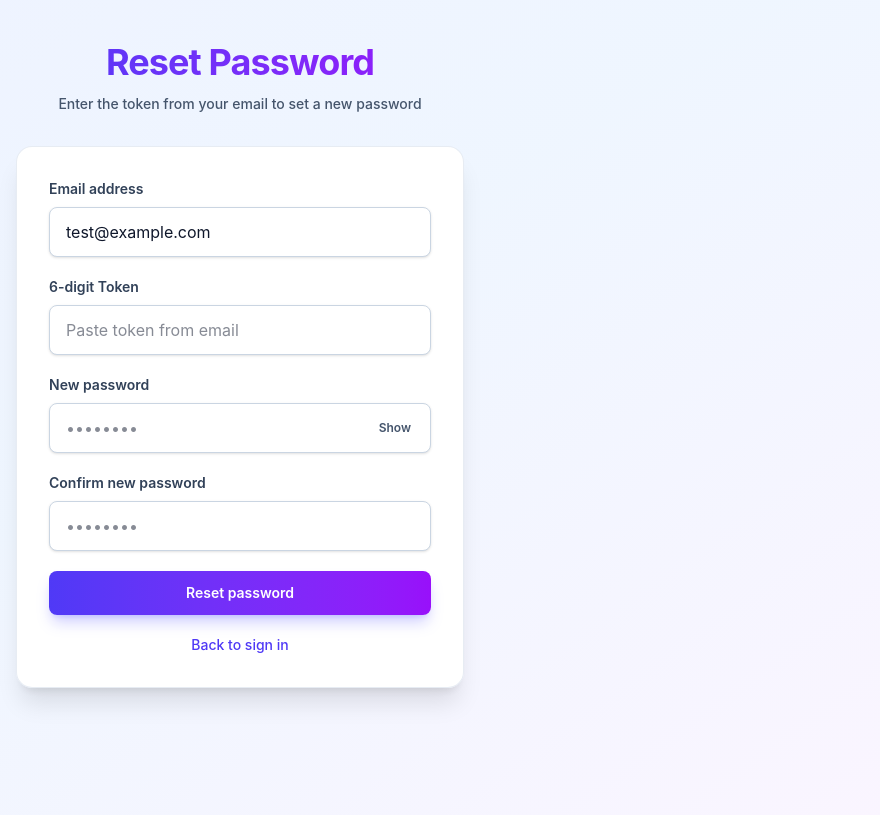
Test: ResetPasswordPage › shows error if resetPassword API fails
Type "111111" into the field labelled "6-digit Token" at (240, 330), box [49, 305, 431, 355]
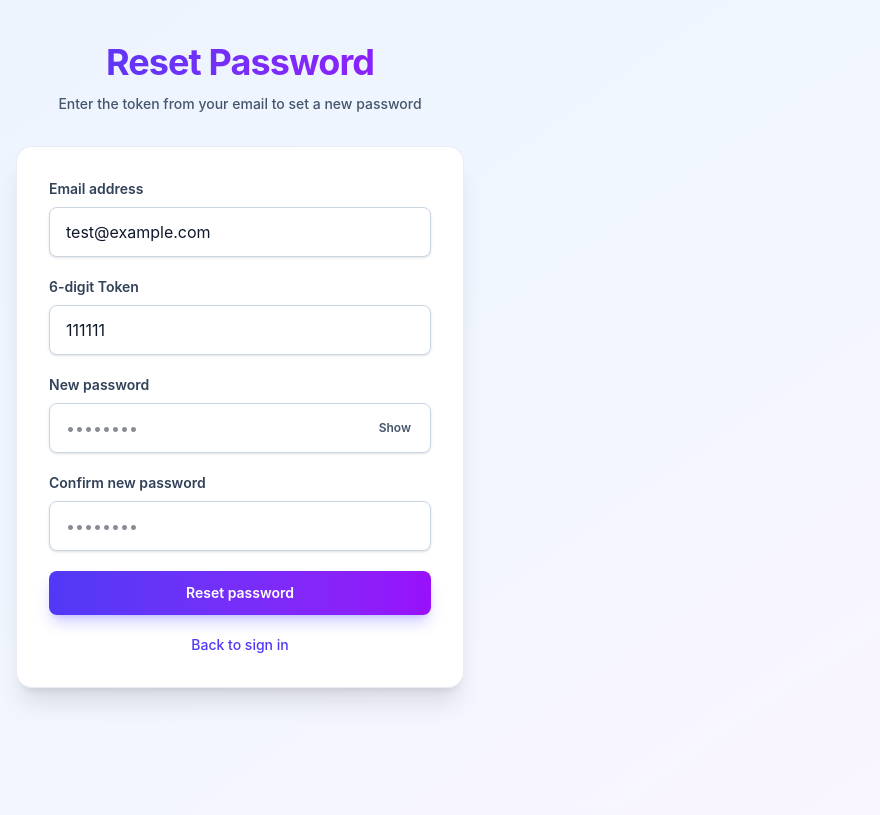
Type "newpassword123" into the password field labelled "New password" at (240, 428), box [49, 403, 431, 453]
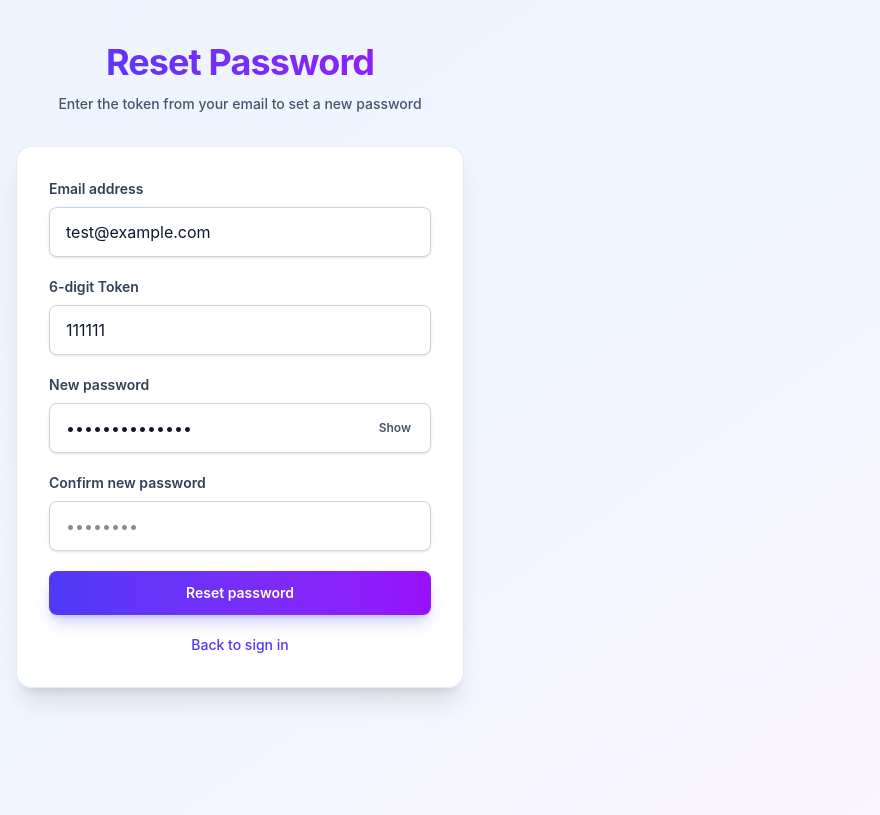
Type "newpassword123" into the password field labelled "Confirm new password" at (240, 526), box [49, 501, 431, 551]
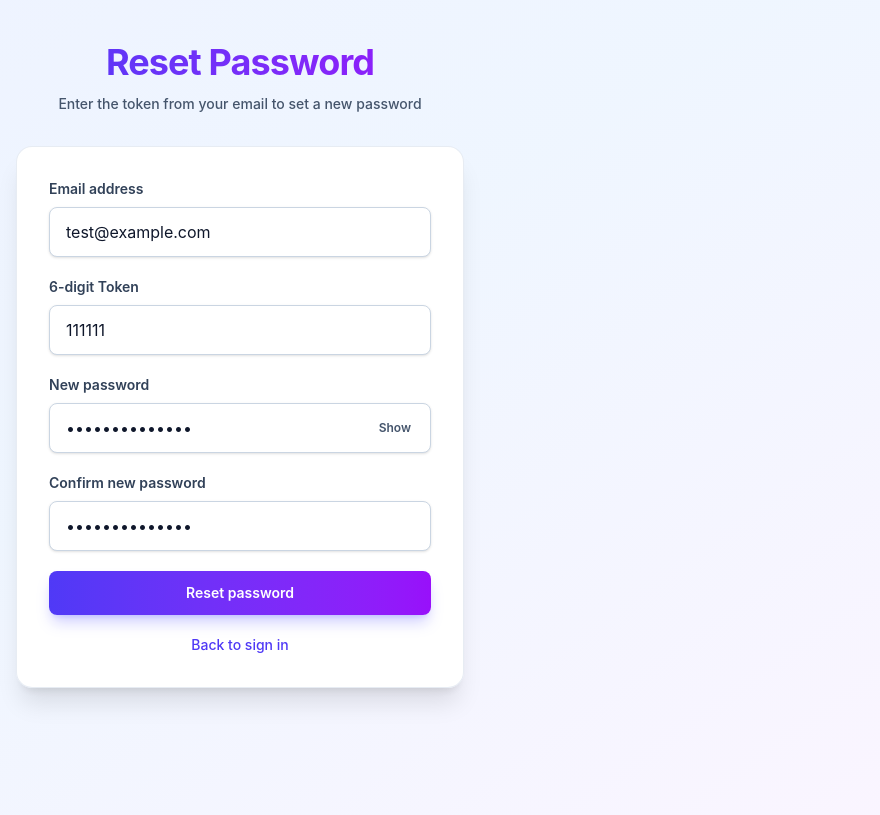
Click the button "Reset password" at (240, 593), box [49, 571, 431, 615]
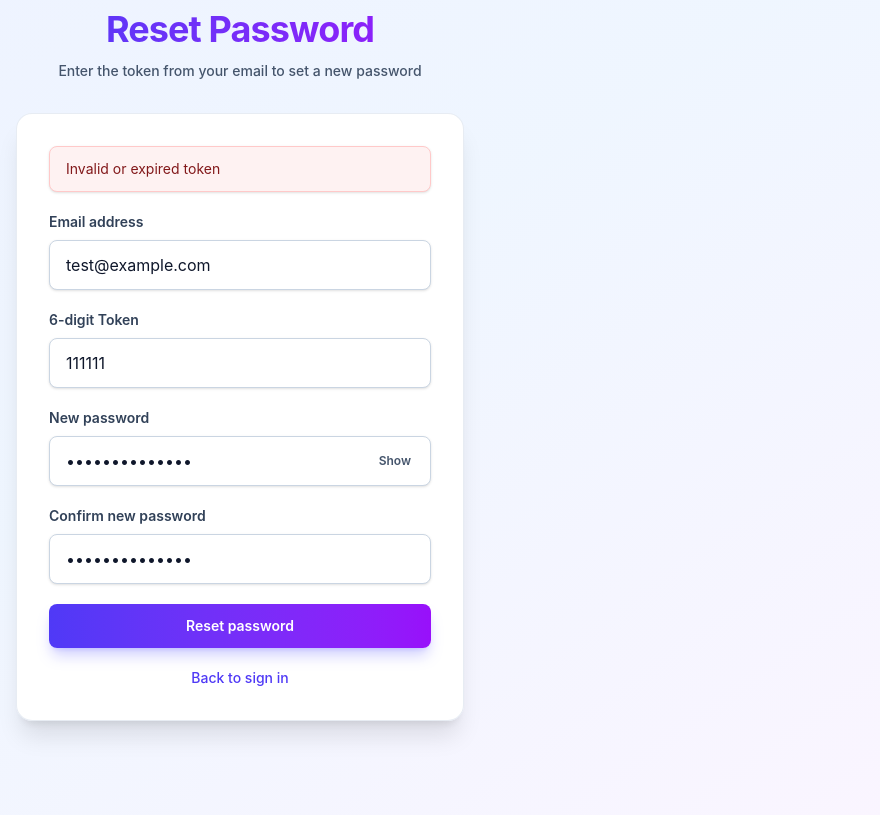
Expected: the text "Invalid or expired token" is shown, [49, 146, 431, 192]
